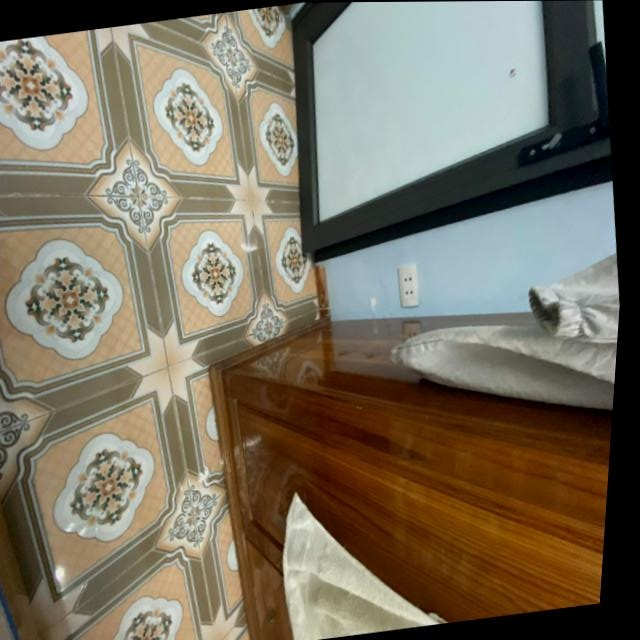outlet: (396, 262, 424, 308)
